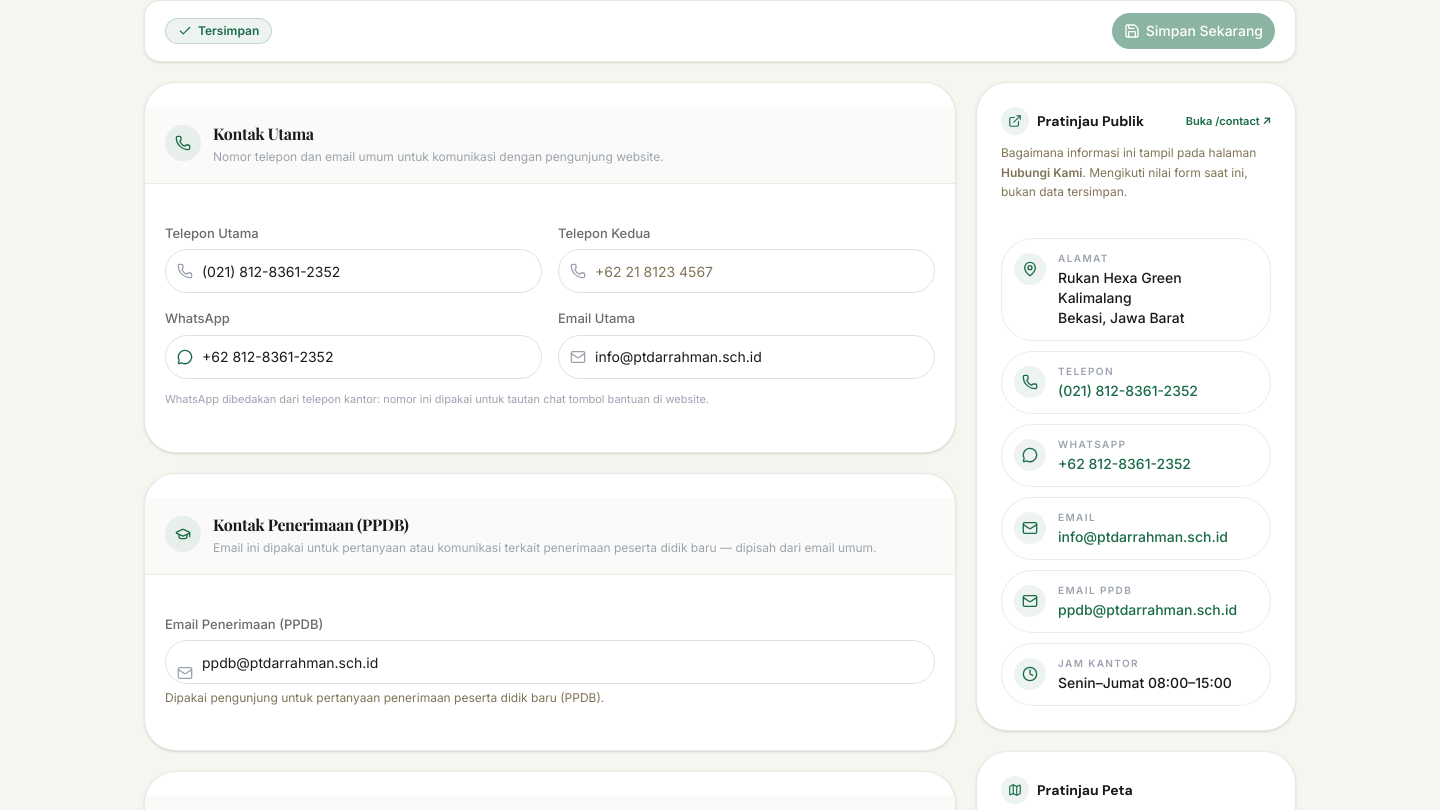
Test case: ContactEditor — manual save validasi › manual save menolak email invalid & memfokuskan field
Type "bukan-email" into the field labelled "Email Penerimaan (PPDB)".
click(550, 662); type("bukan-email")  # box 165,640 -> 935,684
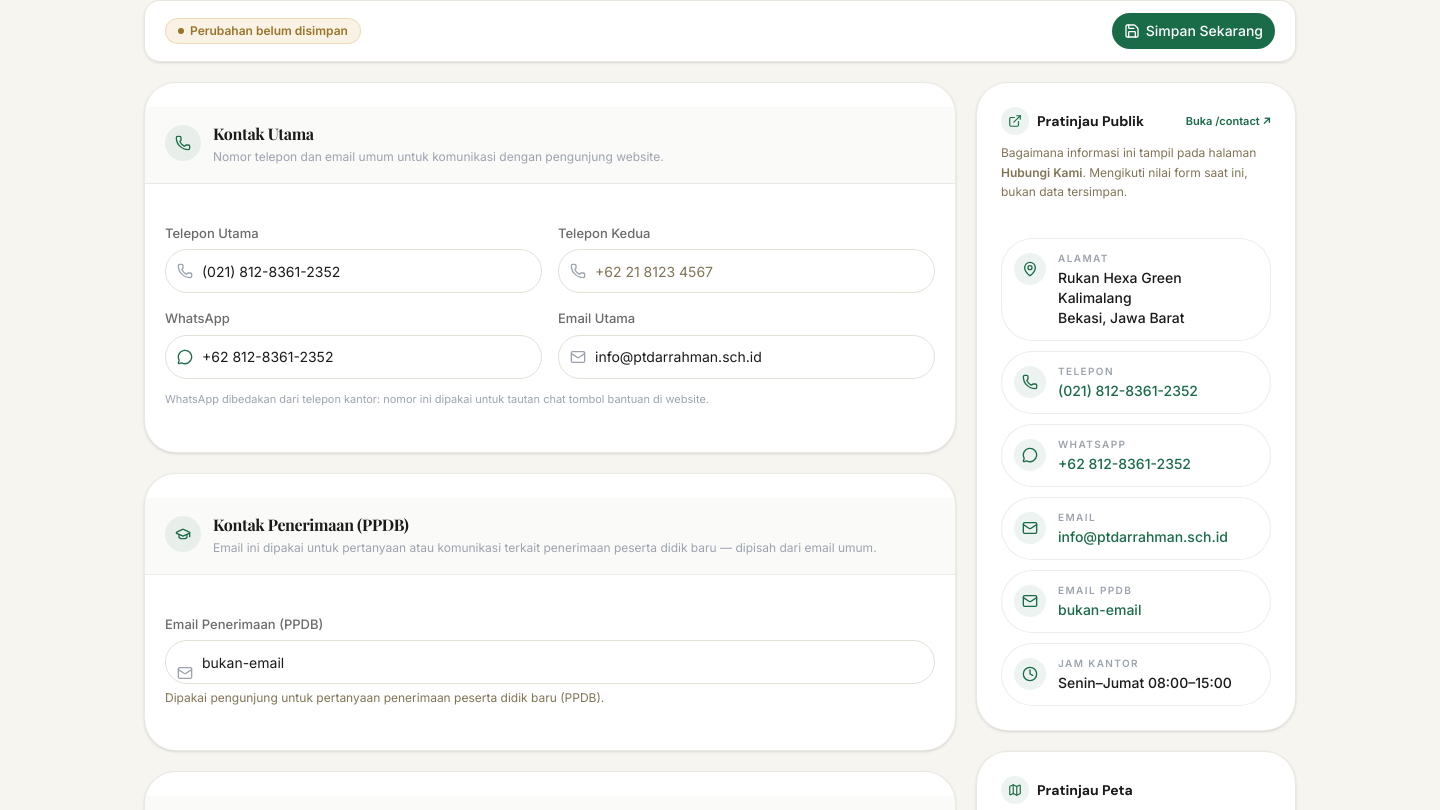
Click the button "Simpan Sekarang".
click(1193, 31)  # box 1112,13 -> 1275,49
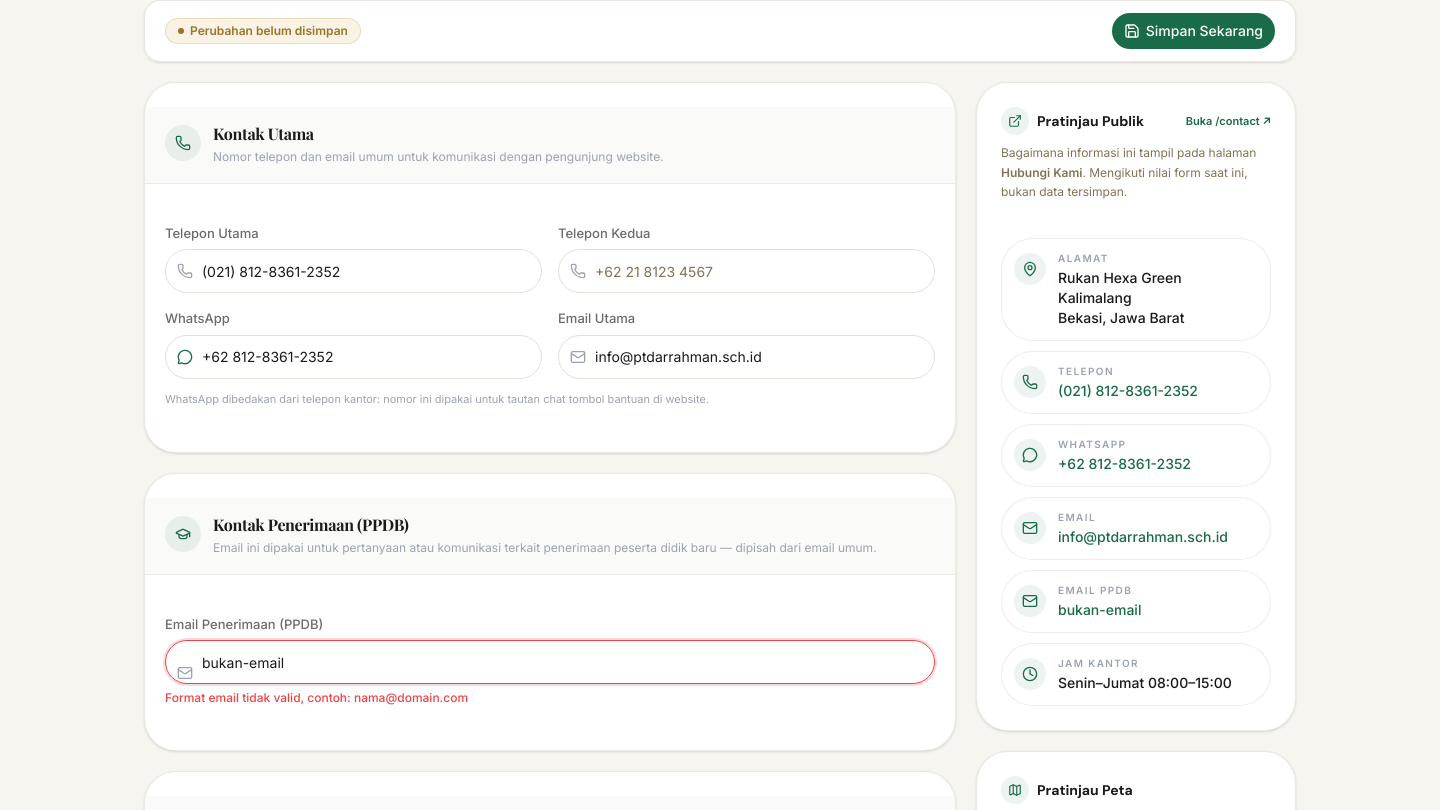
Expected: the text "Format email tidak valid, contoh: nama@domain.com" is shown, 165,690 -> 468,705
